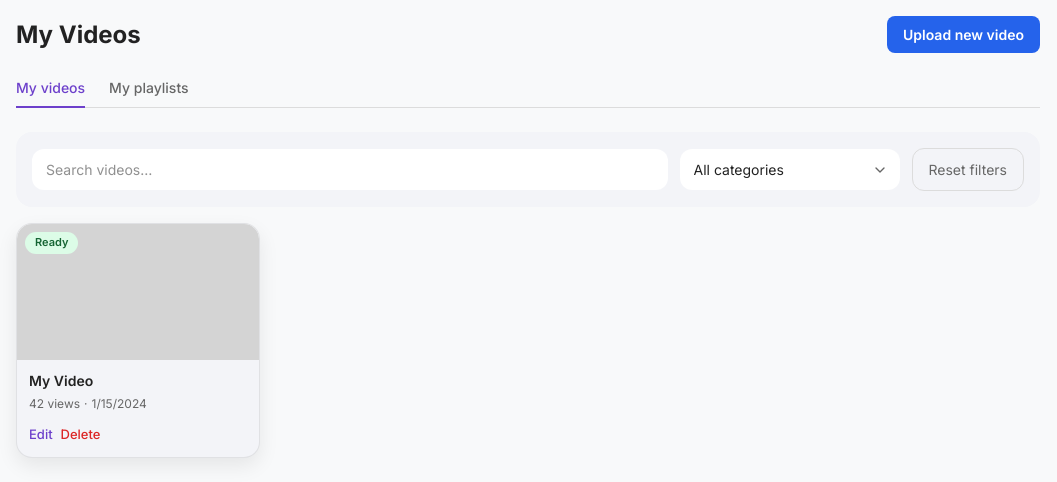
it: DashboardPage › cancels delete confirmation and keeps video in list
The image size is (1057, 482).
Click the button with aria-label "delete my video": (81, 435) [61, 425, 100, 444]
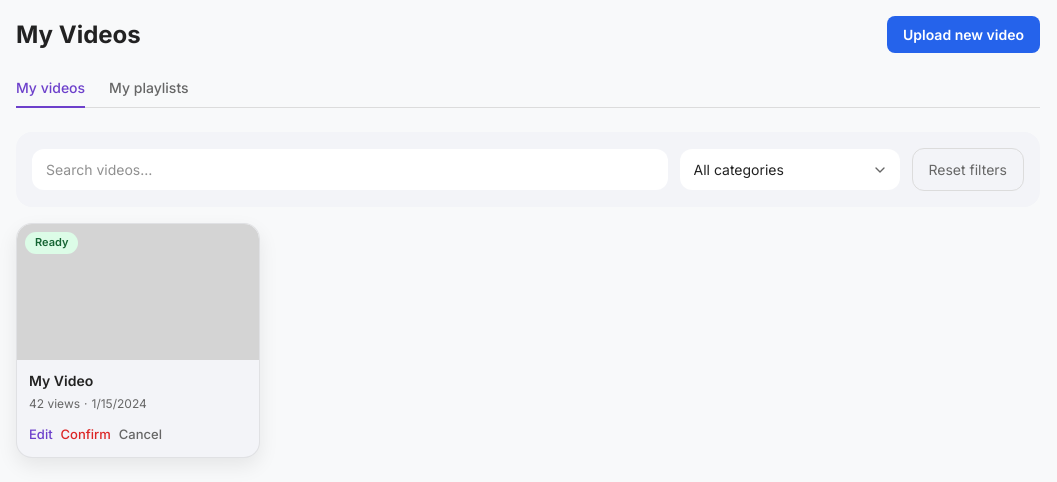
Check: the button "Cancel" is shown
Click the button "Cancel": (140, 435) [119, 425, 162, 444]
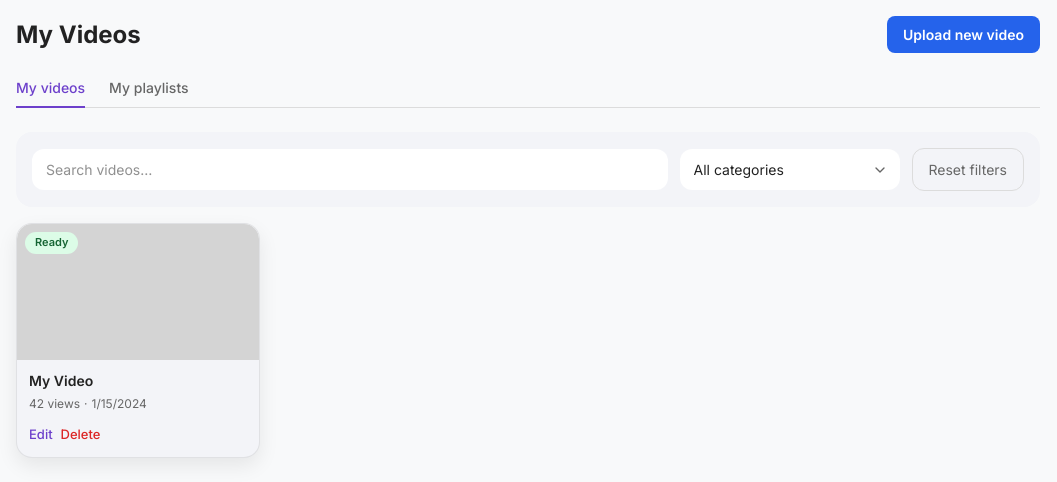
Check: the link "My Video" is shown, box [29, 372, 93, 389]
Check: the button with aria-label "delete my video" is shown, box [61, 425, 100, 444]
